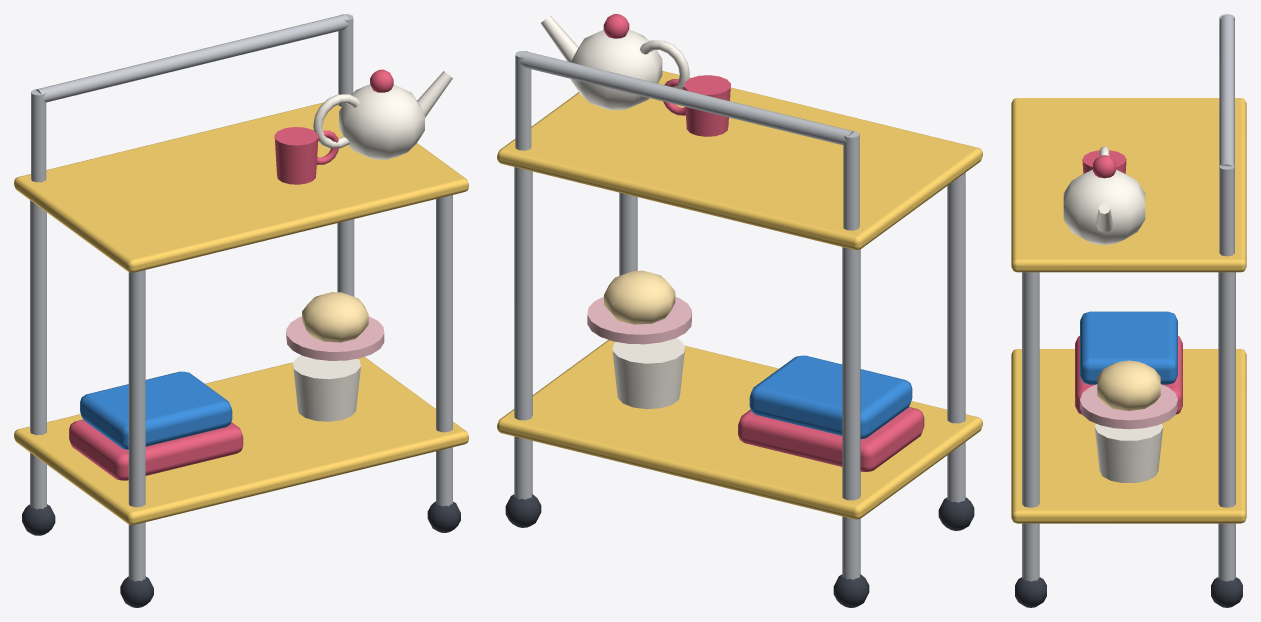
File: cart.glb
The picture shows the model from 3 angles, left to right: view 1: azimuth 30°, elevation 25°; view 2: azimuth 150°, elevation 25°; view 3: azimuth 270°, elevation 25°; orthographic projection. The views are drawn at different scales.
Bounding box in the file's own units: 0.8642 × 0.996 × 0.48.
